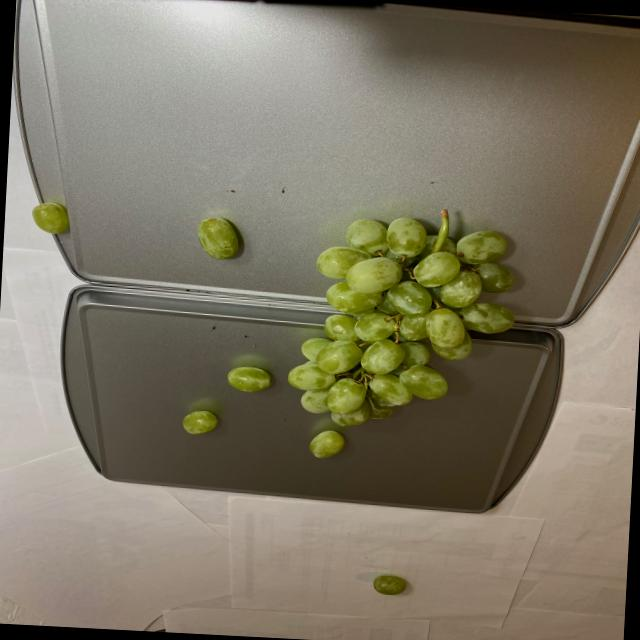grapes: (179, 194, 523, 471), (29, 198, 74, 240), (373, 570, 409, 599)
